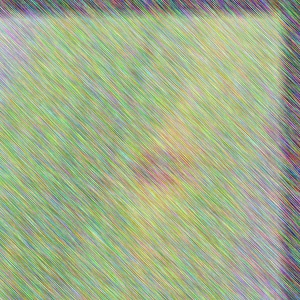Bacterial_Leaf_Blight: (115, 132, 206, 201), (161, 42, 189, 64), (229, 119, 254, 138), (211, 75, 234, 94)
